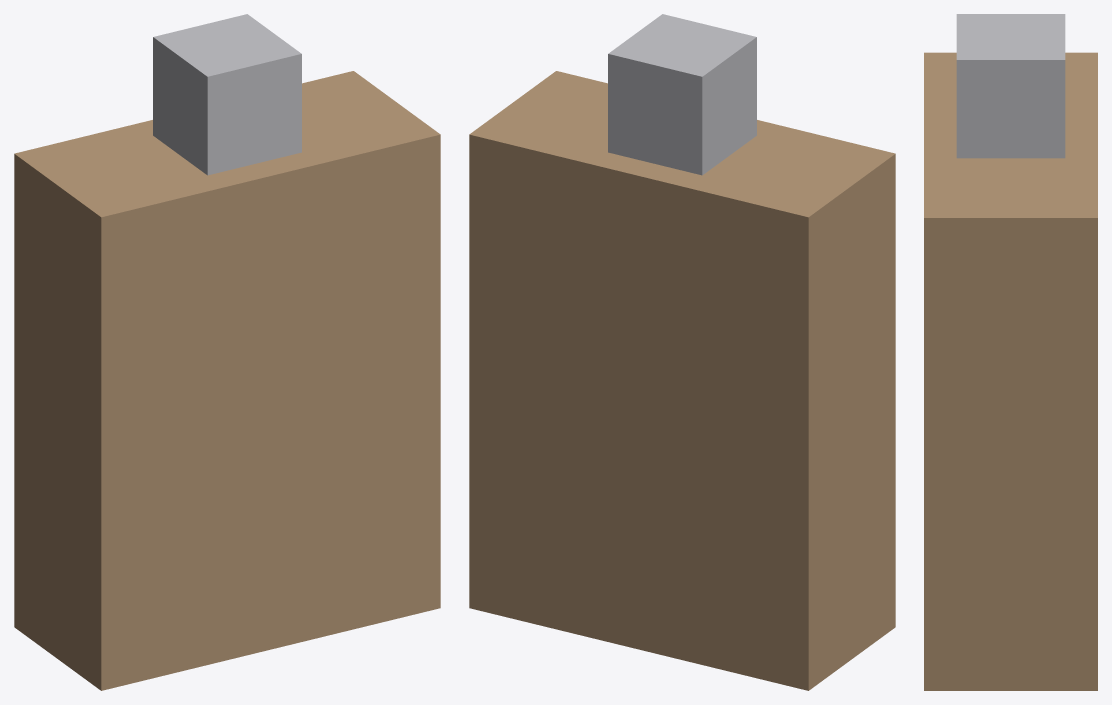
File: Prop_DS_Water_Canteen_V2.glb
3 renders of one model, left to right at view 1: azimuth 30°, elevation 25°; view 2: azimuth 150°, elevation 25°; view 3: azimuth 270°, elevation 25°, orthographic.
Visible parts, largest first — view 1: Prop_DS_Water_Canteen_V2; view 2: Prop_DS_Water_Canteen_V2; view 3: Prop_DS_Water_Canteen_V2.
Boxes of the visible parts, box(x1,y1,x2,y2) form: Prop_DS_Water_Canteen_V2: box(14, 14, 440, 690); Prop_DS_Water_Canteen_V2: box(469, 14, 895, 690); Prop_DS_Water_Canteen_V2: box(924, 14, 1097, 690).
Size of the model in its own units: 0.18 by 0.29 by 0.08.
